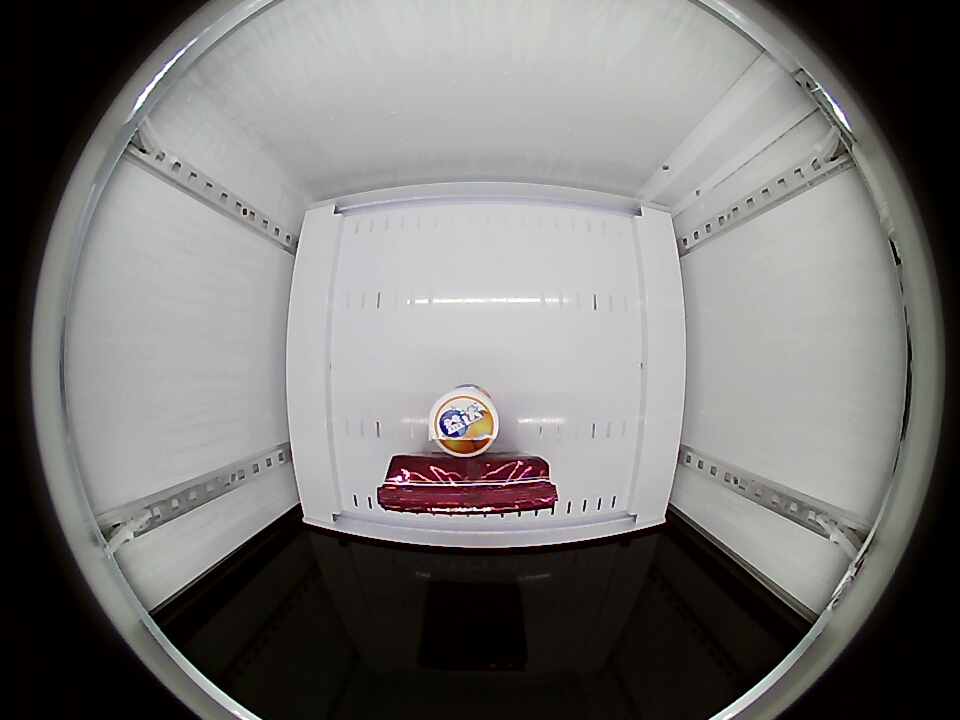haochidian: (377, 456, 554, 518)
